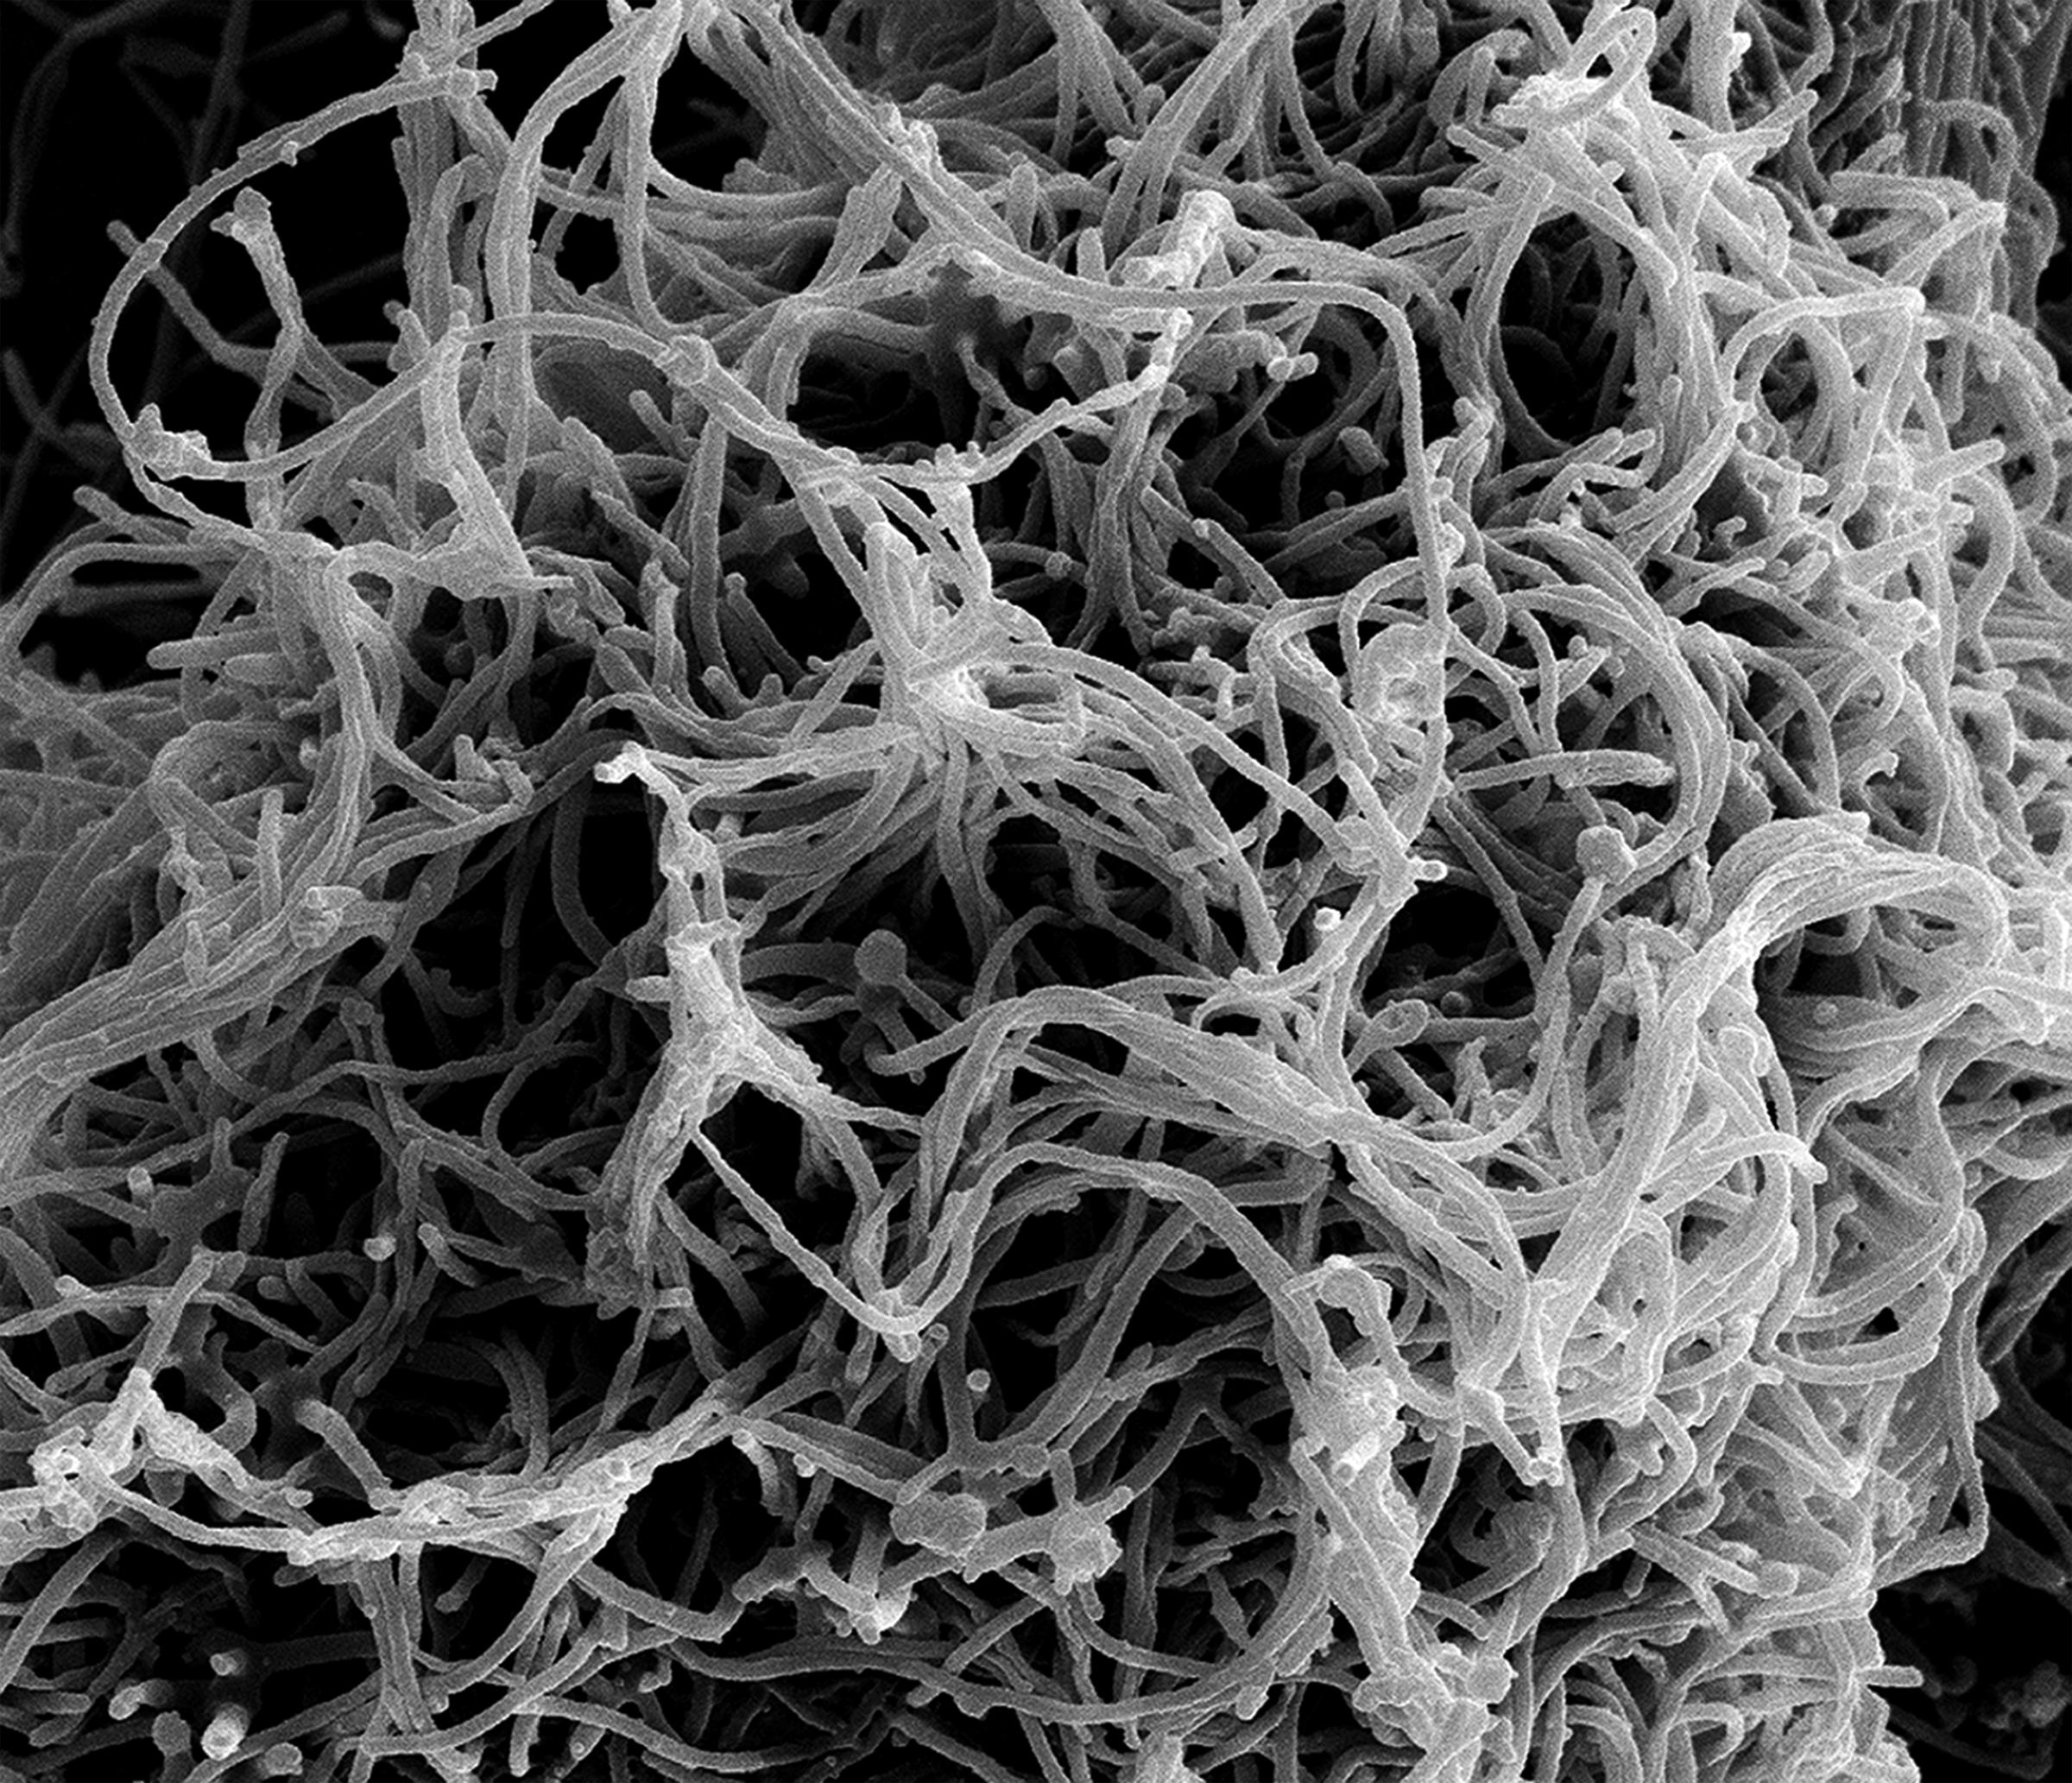EBOLA: (349, 252, 1602, 1427)
